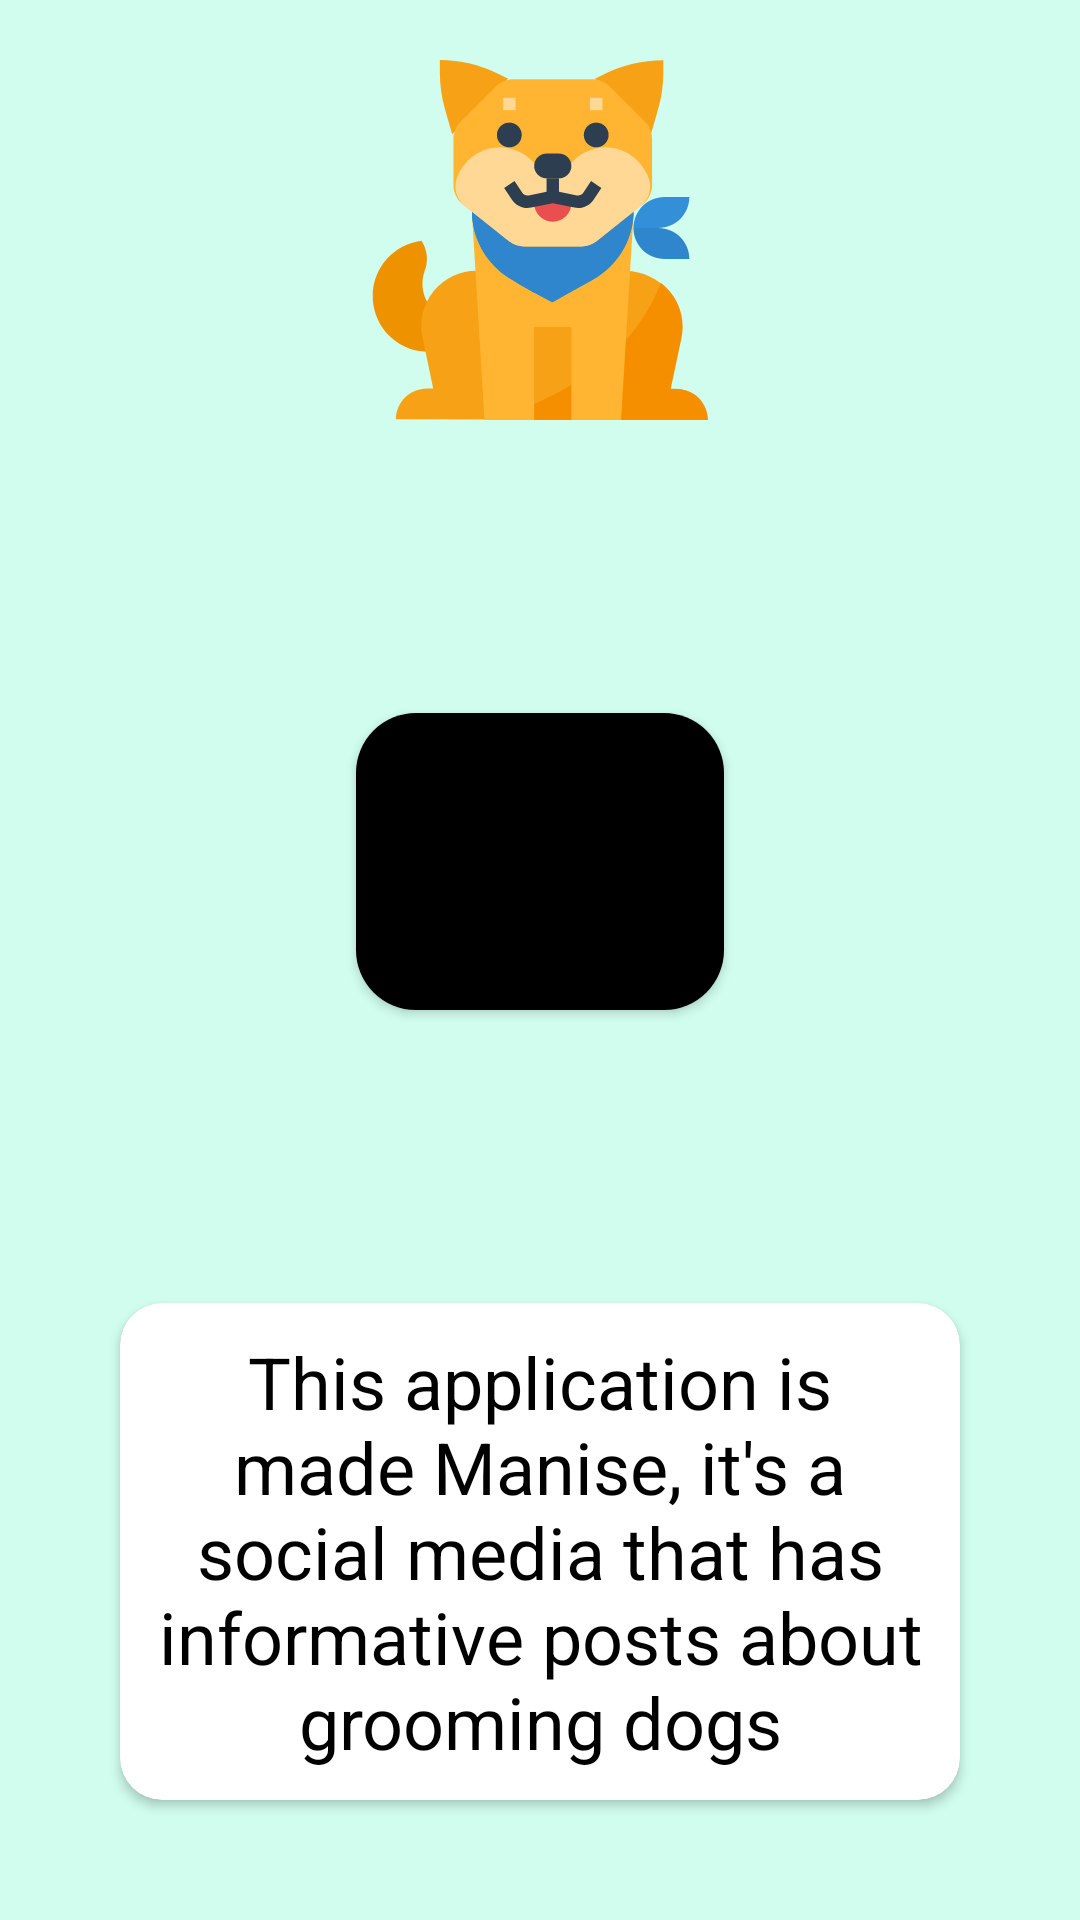

Screen size 1080 × 1920. Icon name, then its center in pixels as (x=x, y=y):
doggy: (x=540, y=240)
